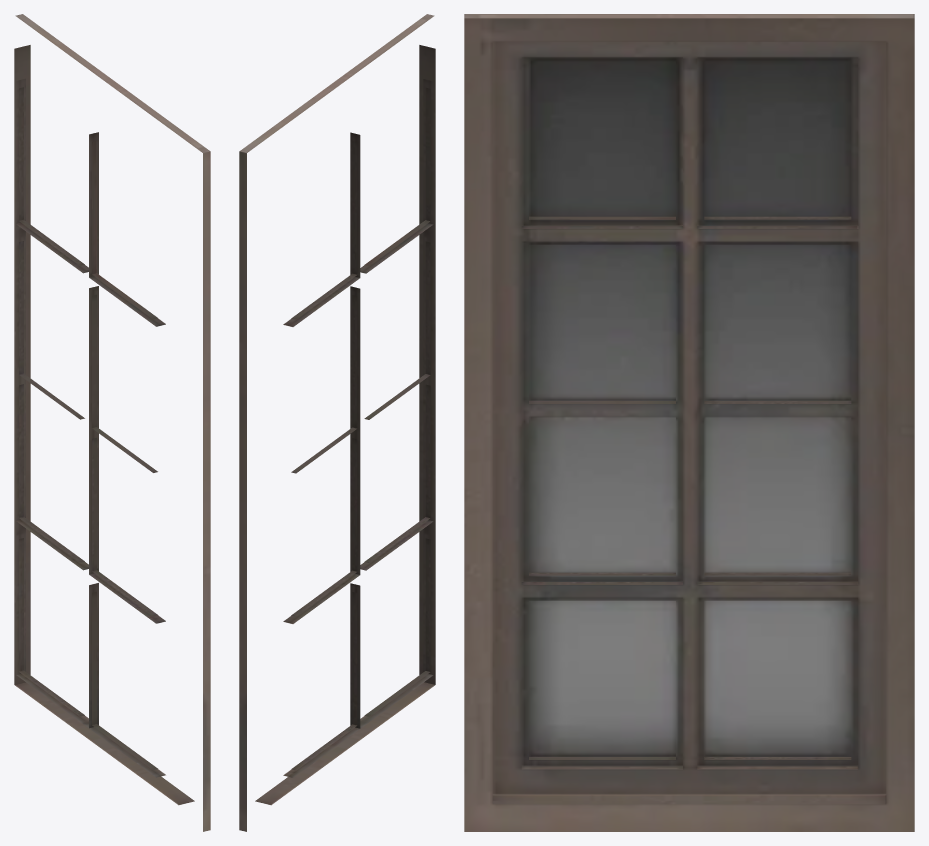
3 views of the same model, side by side, from view 1: azimuth 30°, elevation 25°; view 2: azimuth 150°, elevation 25°; view 3: azimuth 270°, elevation 25° (orthographic). The views are drawn at different scales.
Parts seen in each view (by area): view 1: body0_model0_lod0_mesh0; view 2: body0_model0_lod0_mesh0; view 3: body0_model0_lod0_mesh0.
Boxes of the visible parts, left/top/right/bottom form: body0_model0_lod0_mesh0: left=14, top=14, right=210, bottom=831; body0_model0_lod0_mesh0: left=239, top=14, right=435, bottom=831; body0_model0_lod0_mesh0: left=464, top=14, right=914, bottom=831.
Size of the model in its own units: 6 by 128 by 64.18.
1 material, 1 textured.
